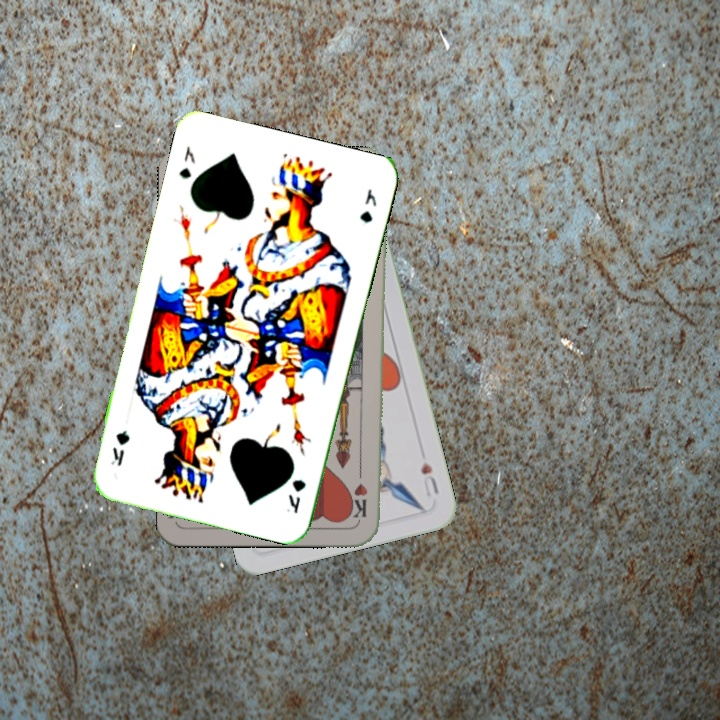GK: (284, 475, 309, 516), (175, 142, 198, 182)
HK: (349, 462, 370, 521)
HU: (417, 458, 442, 500)
